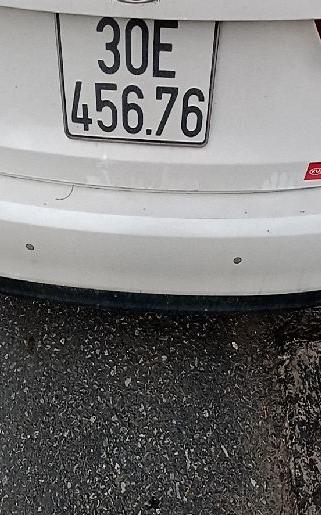Plate-iWeP: (56, 9, 222, 150)
